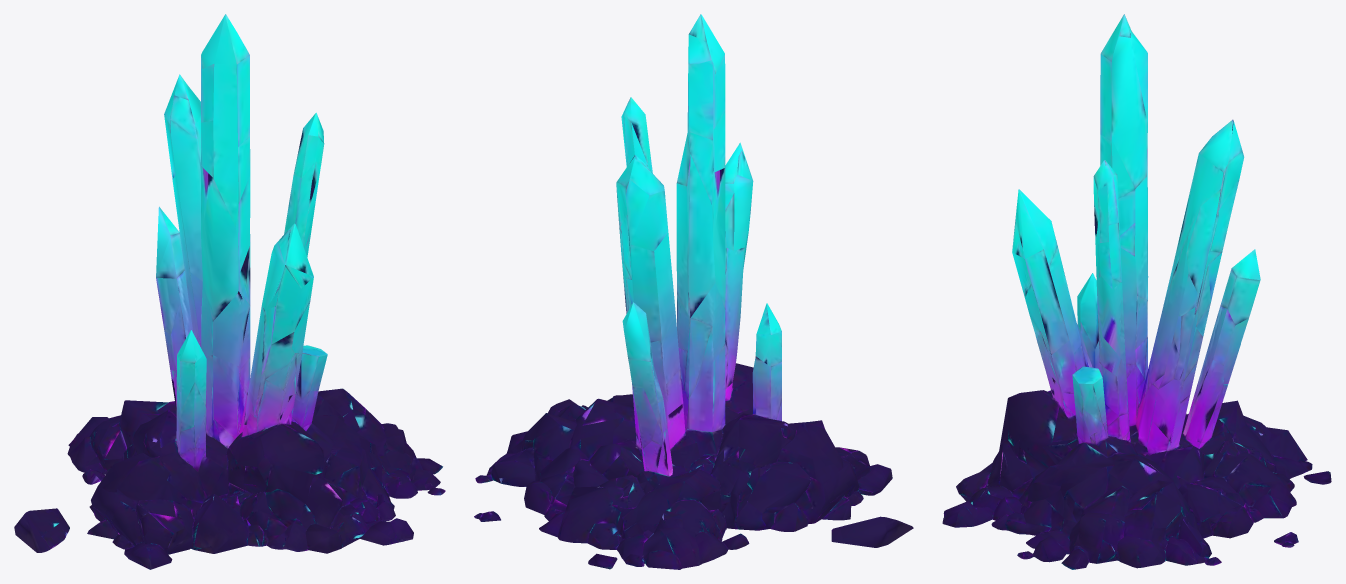
Rendered from prop-crystal-cluster-lod1.glb.
The picture shows the model from 3 angles, left to right: view 1: azimuth 30°, elevation 25°; view 2: azimuth 150°, elevation 25°; view 3: azimuth 270°, elevation 25°; orthographic projection. The views are drawn at different scales.
Parts seen in each view (by area): view 1: Mesh_0; view 2: Mesh_0; view 3: Mesh_0.
Part boxes in pixels (x1,y1,x2,y2): Mesh_0: (14,14,445,569); Mesh_0: (474,14,913,569); Mesh_0: (942,14,1331,569).
Size of the model in its own units: 1.62 by 1.9 by 1.44.
Materials: 1 (1 with a texture image).
